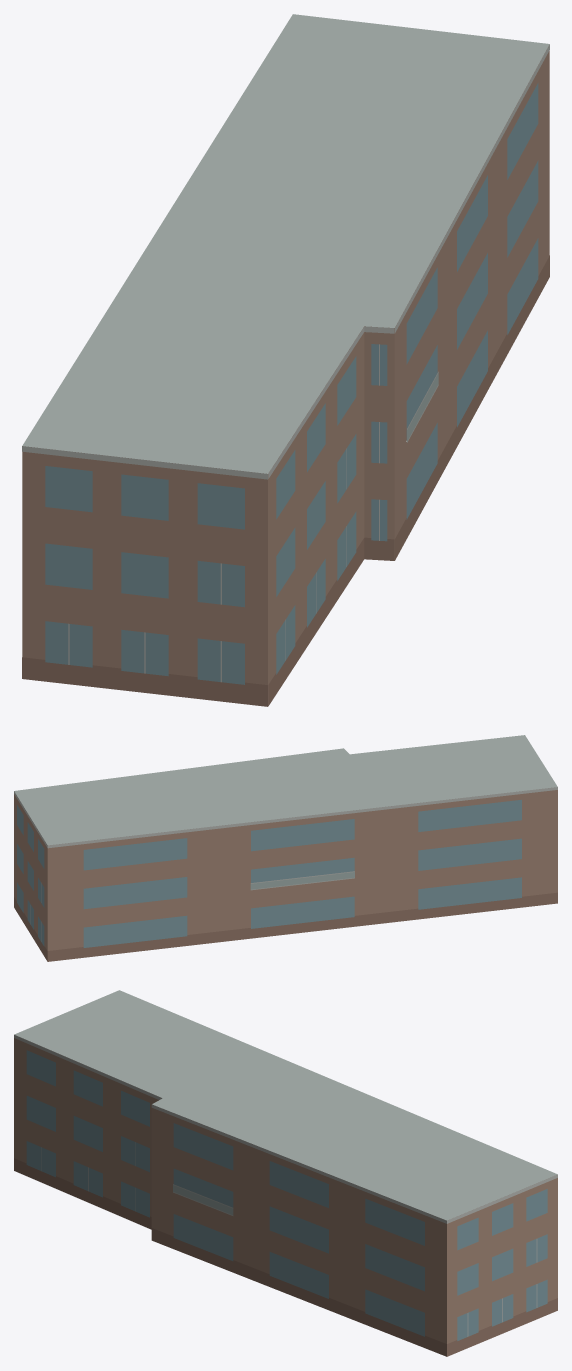
Rendered from survey-upis-32993617.glb.
3 views of the same model, one above another, from view 1: azimuth 30°, elevation 25°; view 2: azimuth 150°, elevation 25°; view 3: azimuth 270°, elevation 25° (orthographic). The views are drawn at different scales.
Visible parts, largest first — view 1: survey-upis-32993617.tmp; view 2: survey-upis-32993617.tmp; view 3: survey-upis-32993617.tmp.
Part boxes in pixels (x1,y1,x2,y2): survey-upis-32993617.tmp: (22,14,549,706); survey-upis-32993617.tmp: (14,735,557,961); survey-upis-32993617.tmp: (14,990,557,1356).
Size of the model in its own units: 36.3 by 10 by 36.19.
